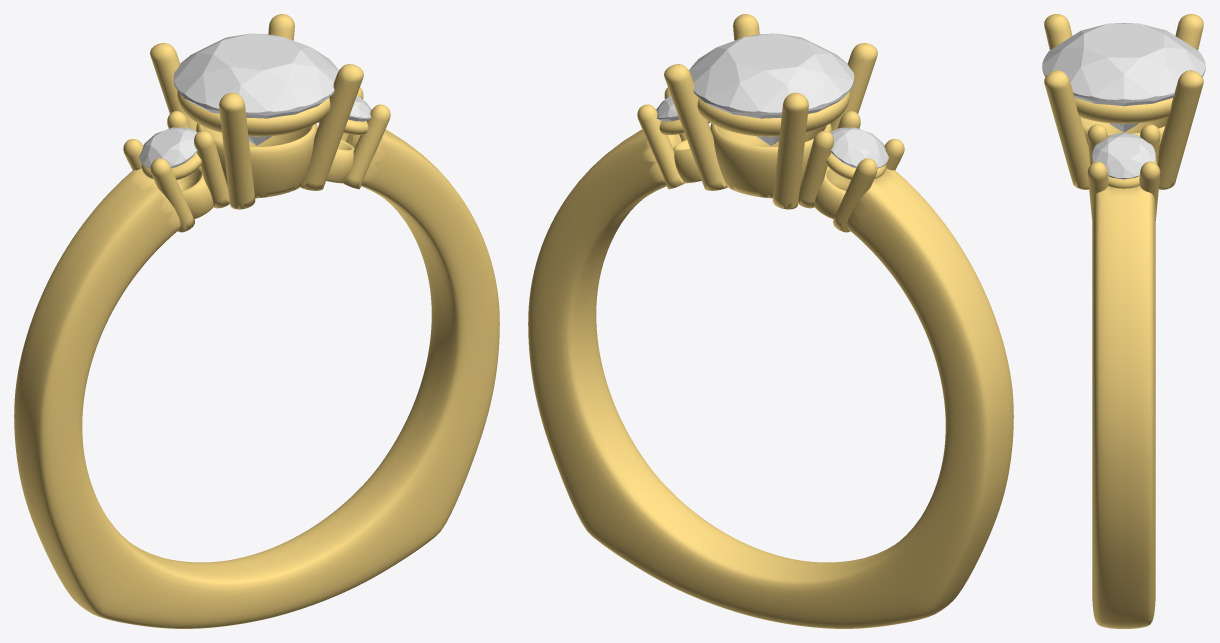
File: diamond-round-yellowgold-4prong-europeanshank-2stone.glb
3 renders of one model, left to right at view 1: azimuth 30°, elevation 25°; view 2: azimuth 150°, elevation 25°; view 3: azimuth 270°, elevation 25°, orthographic. The views are drawn at different scales.
Parts seen in each view (by area): view 1: metal, stone, side.001; view 2: metal, stone, side.001; view 3: metal, stone, side.
Boxes of the visible parts, box(x1,y1,x2,y2) form: metal: box(14, 14, 499, 628); stone: box(173, 33, 338, 145); side.001: box(139, 127, 197, 168); metal: box(528, 14, 1013, 628); stone: box(689, 33, 854, 145); side.001: box(830, 127, 888, 168); metal: box(1044, 14, 1203, 628); stone: box(1042, 23, 1205, 132); side: box(1092, 133, 1155, 179).
Size of the model in its own units: 20.71 by 23.81 by 6.44.
